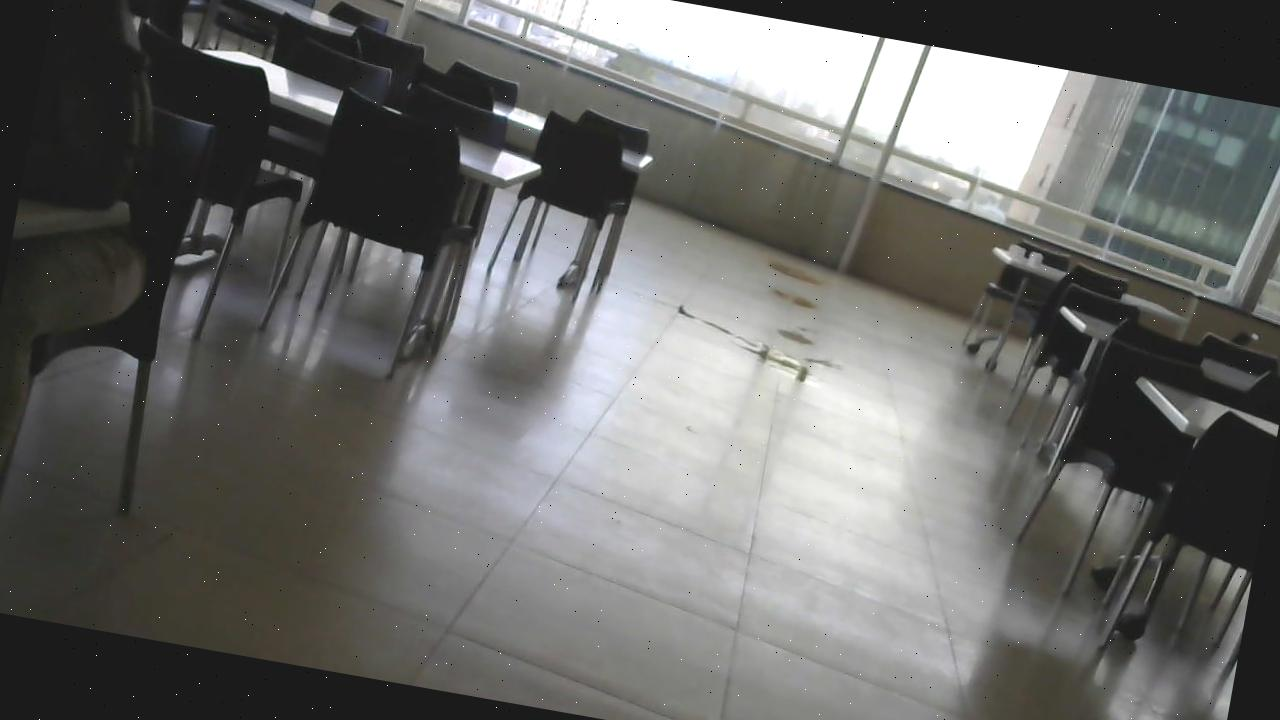dirty_floor: (658, 297, 856, 397), (759, 278, 827, 317), (762, 255, 829, 286)
